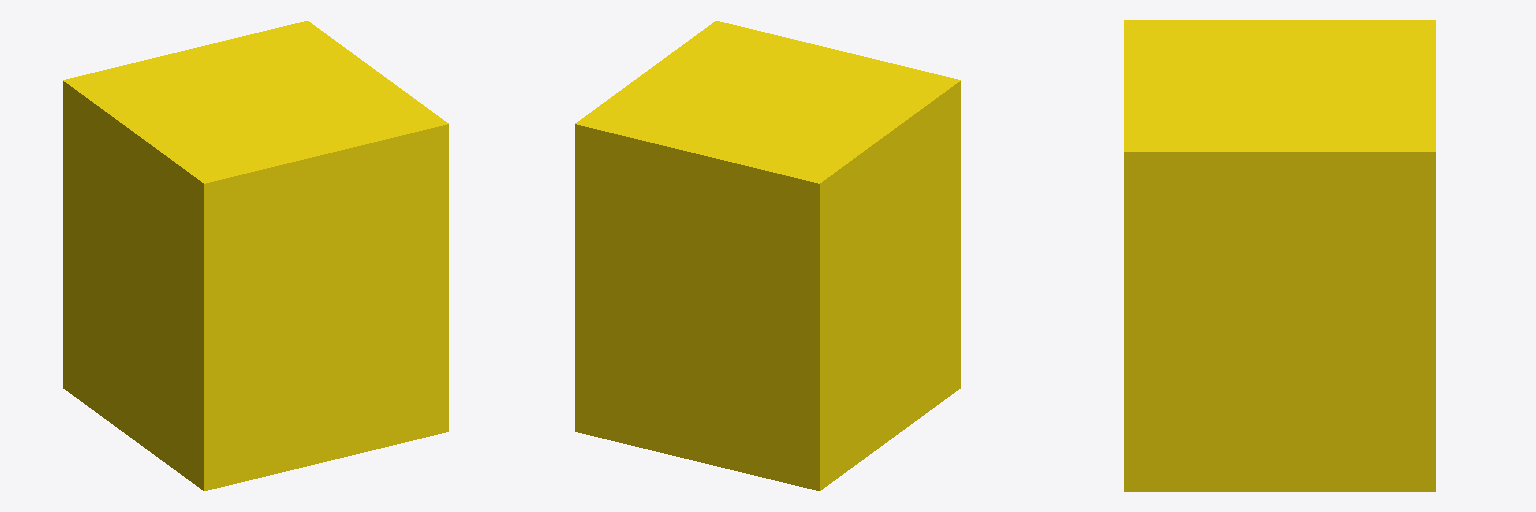
robot.urdf — box:
<?xml version="1.0" ?>
<robot name="box">
  <link name="baseLink">
    <contact>
      <lateral_friction value="1.0"/>
      <rolling_friction value="0.0"/>
      <contact_cfm value="0.0"/>
      <contact_erp value="1.0"/>
    </contact>
    <inertial>
      <origin rpy="0 0 0" xyz="0 0 0"/>
       <mass value="1.0"/>
       <inertia ixx="1" ixy="0" ixz="0" iyy="1" iyz="0" izz="1"/>
    </inertial>
    <visual>
      <origin rpy="0 0 0" xyz="0 0 0"/>
      <geometry>
 11        <box size="1 1 1.2" />
      </geometry>
       <material name="orange">
        <color rgba="4 0.9 0.1 1"/>
      </material>
    </visual>
    <collision>
      <origin rpy="0 0 0" xyz="0 0 0"/>
      <geometry>
 11        <box size="1 1 1" />
      </geometry>
    </collision>
  </link>
</robot>

--- Facts derived from the render (not from the file) ---
Views: 3 orthographic renders of the robot side by side, from view 1: azimuth 30°, elevation 25°; view 2: azimuth 150°, elevation 25°; view 3: azimuth 270°, elevation 25°.
Model box with 1 links and 0 joints (none), rooted at baseLink, posed all joints at 0.
Visible links, largest first — view 1: baseLink; view 2: baseLink; view 3: baseLink.
Boxes of the visible links, x1,y1,x2,y2 form: baseLink: [63, 21, 448, 490]; baseLink: [575, 21, 960, 490]; baseLink: [1124, 20, 1435, 491].
Bounding box of the posed robot: 1 × 1 × 1.2 m (x, y, z).
Geometry: primitives only (box / cylinder / sphere), no mesh files.